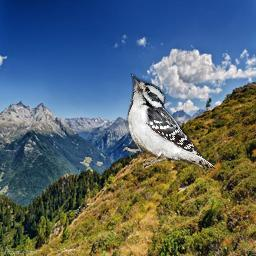Woodpecker: (120, 73, 216, 169)
